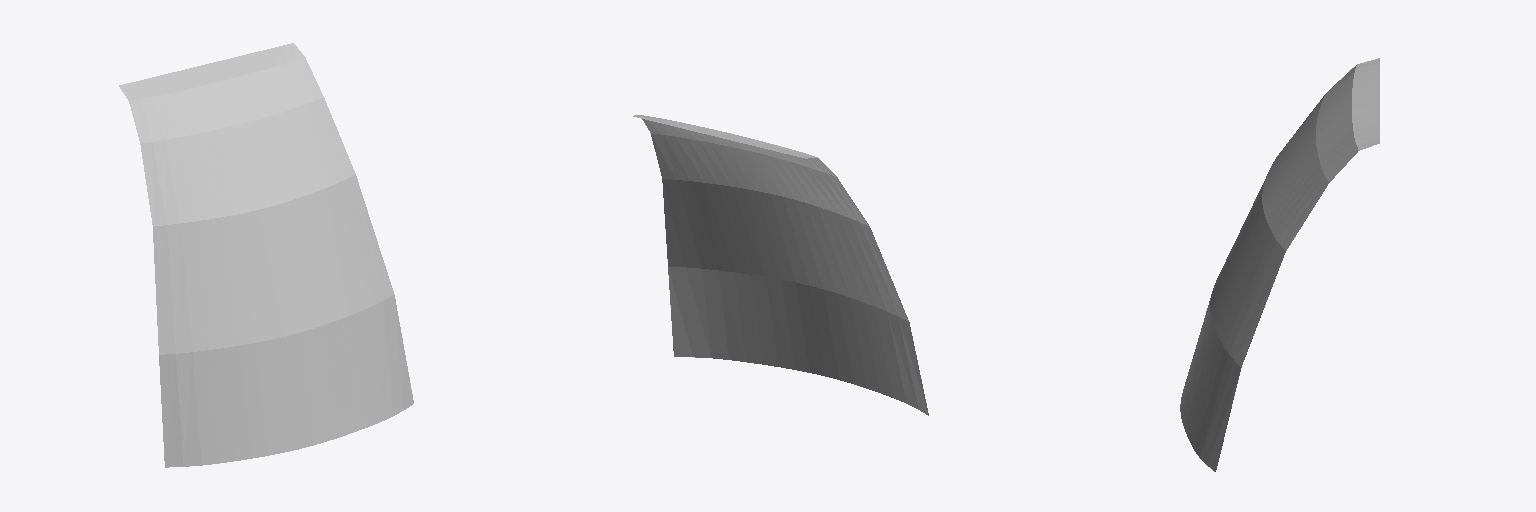
File: WaterFall1.obj
3 renders of one model, left to right at view 1: azimuth 30°, elevation 25°; view 2: azimuth 150°, elevation 25°; view 3: azimuth 270°, elevation 25°, orthographic.
Visible parts, largest first — view 1: WaterFall1; view 2: WaterFall1; view 3: WaterFall1.
Boxes of the visible parts, box(x1,y1,x2,y2) form: WaterFall1: box(119, 43, 413, 467); WaterFall1: box(633, 115, 928, 415); WaterFall1: box(1180, 58, 1379, 471).
Size of the model in its own units: 5 by 5.87 by 3.42.